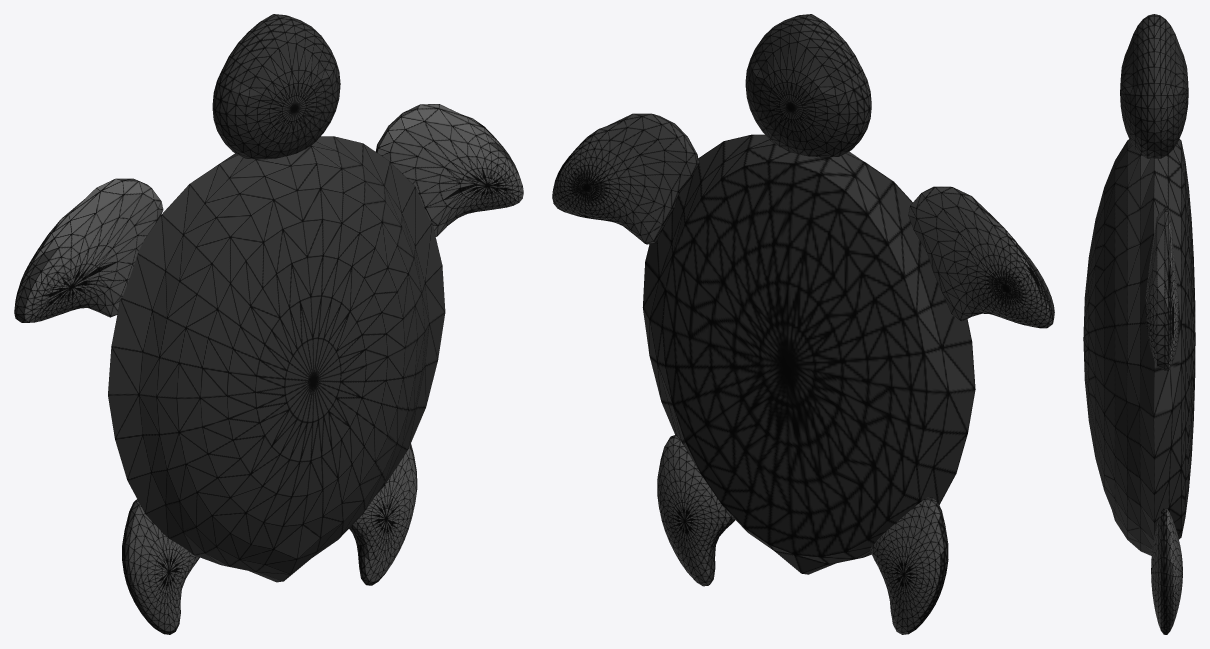
Rendered from LovelyTheTurtle.fbx.
3 renders of one model, left to right at view 1: azimuth 30°, elevation 25°; view 2: azimuth 150°, elevation 25°; view 3: azimuth 270°, elevation 25°, orthographic. The views are drawn at different scales.
Visible parts, largest first — view 1: body, arm fin, head, leg fin; view 2: body, arm fin, head, leg fin; view 3: body, head, arm fin, leg fin.
Boxes of the visible parts, x1,y1,x2,y2 form: body: (108, 136, 445, 582); arm fin: (14, 104, 523, 322); head: (212, 14, 340, 159); leg fin: (122, 444, 417, 634); body: (642, 134, 975, 574); arm fin: (552, 113, 1054, 328); head: (745, 14, 871, 157); leg fin: (657, 435, 948, 634); body: (1083, 139, 1195, 555); head: (1120, 14, 1188, 158); arm fin: (1145, 207, 1179, 370); leg fin: (1151, 508, 1182, 634).
Size of the model in its own units: 268 by 303 by 53.81.
